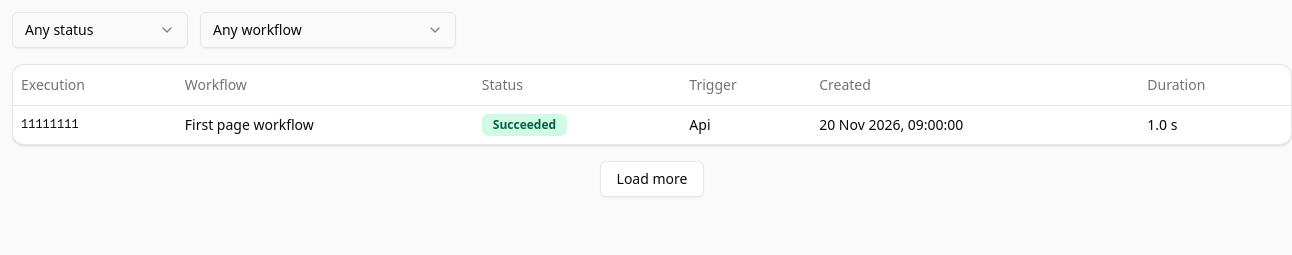
Scenario: ExecutionsList paging › retries a failed next page from its cursor and keeps the rows already loaded
expect the link "11111111" is shown: met, box [21, 118, 79, 132]
Click the button "Load more".
click(652, 178)  # box [600, 160, 704, 196]
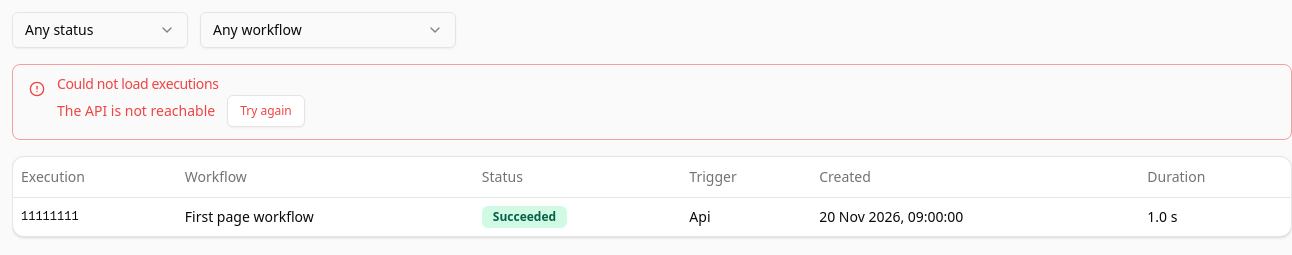
Click the button.
click(266, 111)  # box [227, 95, 305, 127]
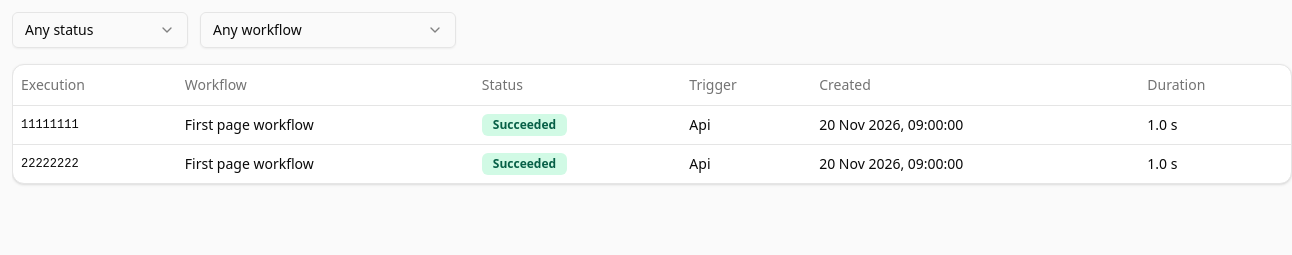
expect the link "11111111" is shown: met, box [21, 118, 79, 132]
expect the link "22222222" is shown: met, box [21, 156, 79, 170]
